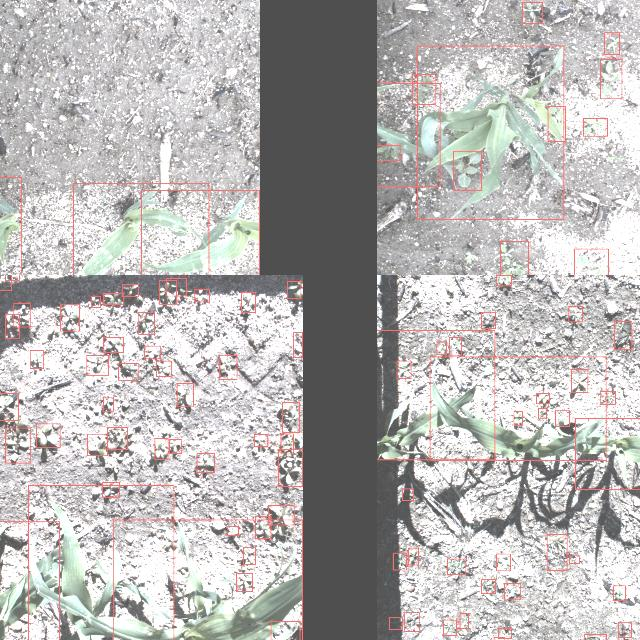crop: (416, 46, 564, 220), (113, 519, 303, 640), (28, 485, 174, 640), (429, 356, 606, 459), (377, 330, 495, 460), (73, 183, 209, 275), (140, 190, 259, 275), (0, 521, 60, 640), (377, 83, 440, 186), (576, 418, 640, 489), (271, 621, 300, 640)
weed: (453, 152, 481, 190), (500, 241, 528, 275), (574, 248, 608, 275), (278, 449, 302, 486), (4, 428, 30, 462), (600, 59, 622, 99), (547, 534, 567, 570), (412, 74, 434, 104), (548, 106, 566, 142), (36, 424, 60, 448), (282, 402, 300, 432), (268, 505, 294, 525), (614, 321, 632, 349), (0, 393, 18, 420), (106, 427, 128, 449), (582, 118, 608, 136), (60, 304, 78, 330), (522, 2, 542, 24), (86, 355, 108, 375), (87, 434, 107, 456), (159, 280, 177, 304), (220, 355, 237, 379), (176, 384, 194, 406), (13, 303, 29, 327), (377, 145, 400, 161), (166, 278, 186, 296), (604, 33, 620, 55), (138, 312, 154, 334), (572, 370, 588, 392), (197, 453, 215, 472), (118, 364, 138, 381), (5, 314, 19, 338), (446, 559, 466, 575), (256, 516, 270, 538), (154, 438, 168, 459), (102, 482, 120, 498), (237, 574, 253, 592), (241, 292, 255, 312), (280, 434, 294, 454), (103, 338, 123, 352), (404, 612, 418, 632), (287, 281, 301, 299), (29, 350, 43, 368), (396, 361, 410, 379), (392, 552, 406, 570), (568, 306, 582, 322), (481, 313, 495, 329), (555, 410, 569, 426), (600, 391, 616, 405), (480, 579, 496, 593), (504, 584, 520, 598), (496, 554, 510, 570), (618, 622, 632, 638), (449, 337, 461, 355), (294, 332, 302, 358), (103, 294, 123, 304), (156, 362, 170, 376), (612, 586, 626, 600), (194, 290, 210, 302), (144, 346, 160, 358), (122, 284, 138, 296), (243, 548, 255, 564), (444, 620, 456, 636), (0, 275, 11, 291), (169, 439, 181, 453), (388, 617, 402, 629), (496, 276, 512, 286), (408, 548, 418, 564), (255, 435, 268, 447), (103, 397, 113, 411), (536, 394, 550, 404), (498, 628, 512, 638), (585, 634, 607, 640), (459, 614, 468, 628), (91, 296, 101, 308), (436, 342, 446, 354), (402, 489, 412, 501), (514, 411, 522, 425), (228, 526, 238, 536), (538, 408, 546, 418), (570, 556, 580, 564), (5, 275, 19, 280), (493, 637, 504, 640)
